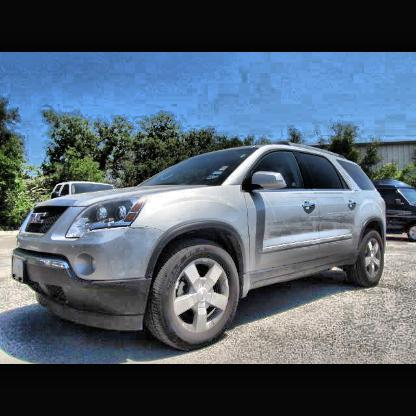GMC Acadia SUV 2012: (8, 128, 416, 358)
